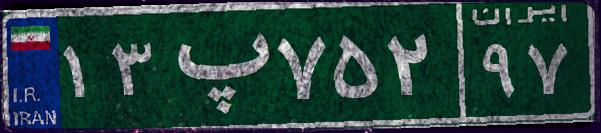1: (57, 26, 110, 107)
2: (385, 28, 445, 110)
3: (110, 28, 158, 105)
5: (330, 28, 385, 110)
7: (273, 28, 330, 110), (525, 38, 570, 115)
9: (475, 38, 525, 113)
پ: (158, 15, 273, 115)
